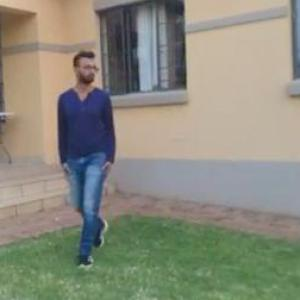follow: (52, 43, 120, 271)
